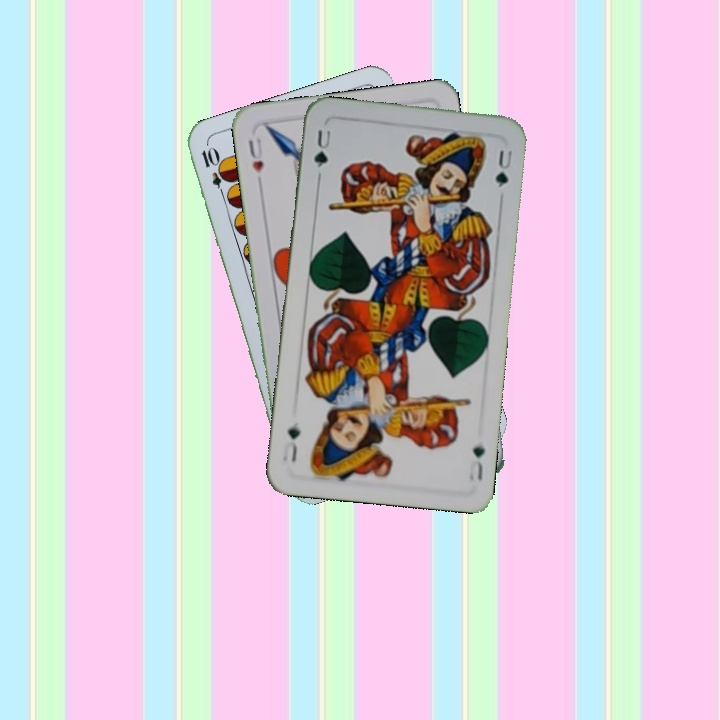E10: (197, 143, 230, 202)
GU: (310, 125, 333, 170), (465, 441, 488, 483)
HU: (244, 134, 266, 176)
